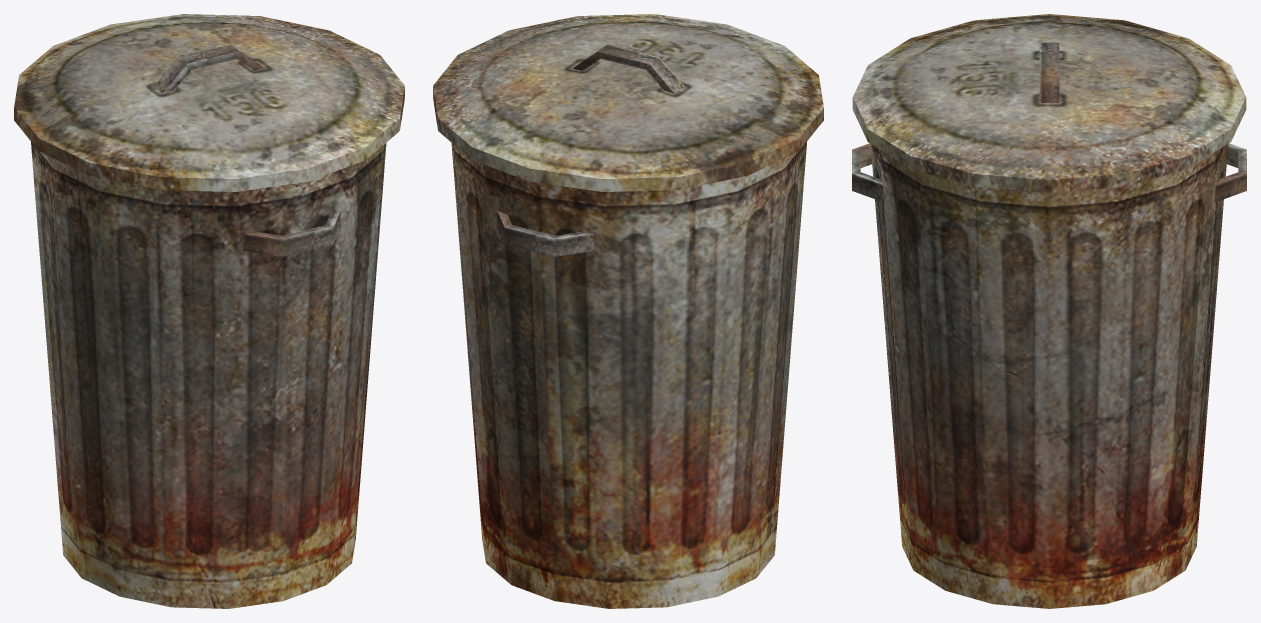
The model's file is Model_Garbage_Disposal_02.fbx.
3 renders of one model, left to right at view 1: azimuth 30°, elevation 25°; view 2: azimuth 150°, elevation 25°; view 3: azimuth 270°, elevation 25°, orthographic.
Parts seen in each view (by area): view 1: polySurface1; view 2: polySurface1; view 3: polySurface1.
Part boxes in pixels (x1,y1,x2,y2): polySurface1: (14, 14, 404, 608); polySurface1: (433, 14, 823, 608); polySurface1: (852, 14, 1246, 608).
Size of the model in its own units: 77.77 by 107 by 78.03.
